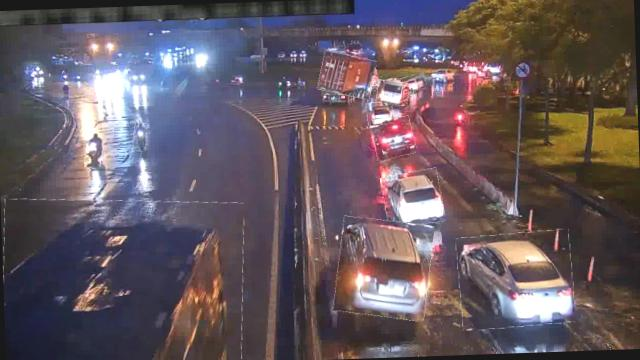Bike: (85, 132, 105, 168), (133, 123, 148, 151)
Bus: (376, 81, 410, 106)
Car: (456, 230, 574, 330), (333, 216, 435, 322), (381, 170, 444, 229), (372, 118, 416, 160), (366, 100, 394, 126), (401, 74, 426, 93)
Truck: (1, 194, 248, 360), (318, 52, 377, 99)
